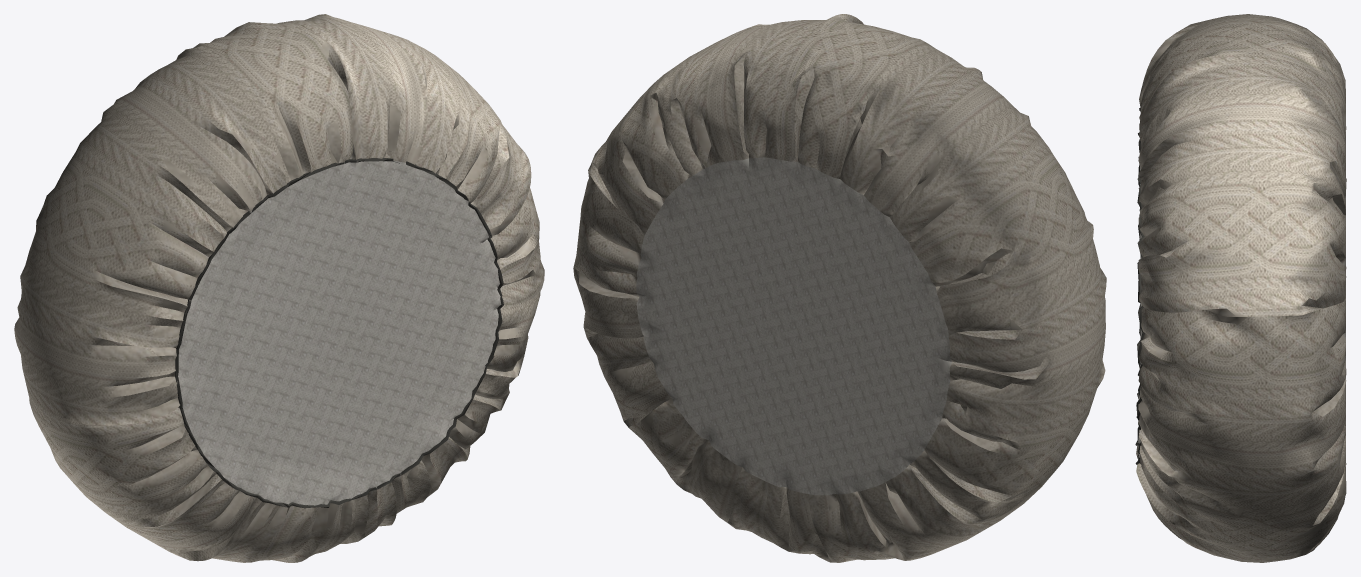
The model's file is raw_model.glb.
3 renders of one model, left to right at view 1: azimuth 30°, elevation 25°; view 2: azimuth 150°, elevation 25°; view 3: azimuth 270°, elevation 25°, orthographic. The views are drawn at different scales.
Visible parts, largest first — view 1: raw_model.030; view 2: raw_model.030; view 3: raw_model.030.
Boxes of the visible parts, x1,y1,x2,y2 form: raw_model.030: (14, 14, 544, 562); raw_model.030: (573, 14, 1106, 562); raw_model.030: (1135, 14, 1346, 562).
Size of the model in its own units: 0.7375 by 0.7353 by 0.2844.
Materials: 1 (1 with a texture image).
